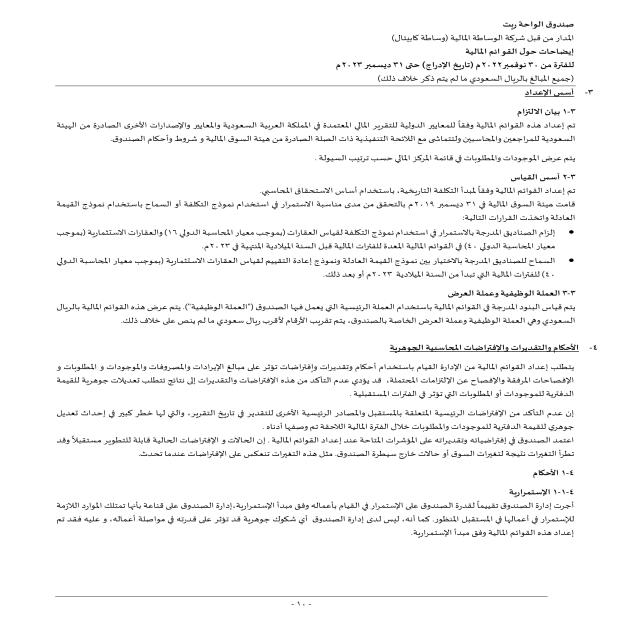notes: (443, 45, 576, 61)
text: (34, 88, 606, 550)
